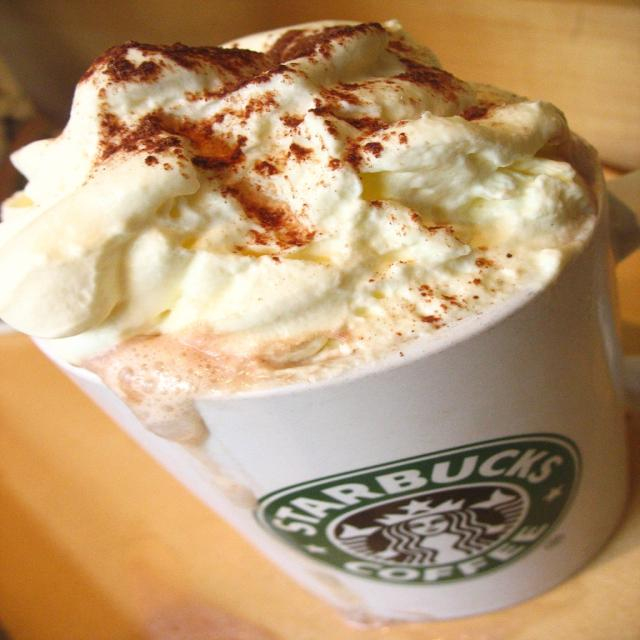starbucks: (255, 435, 586, 585)
